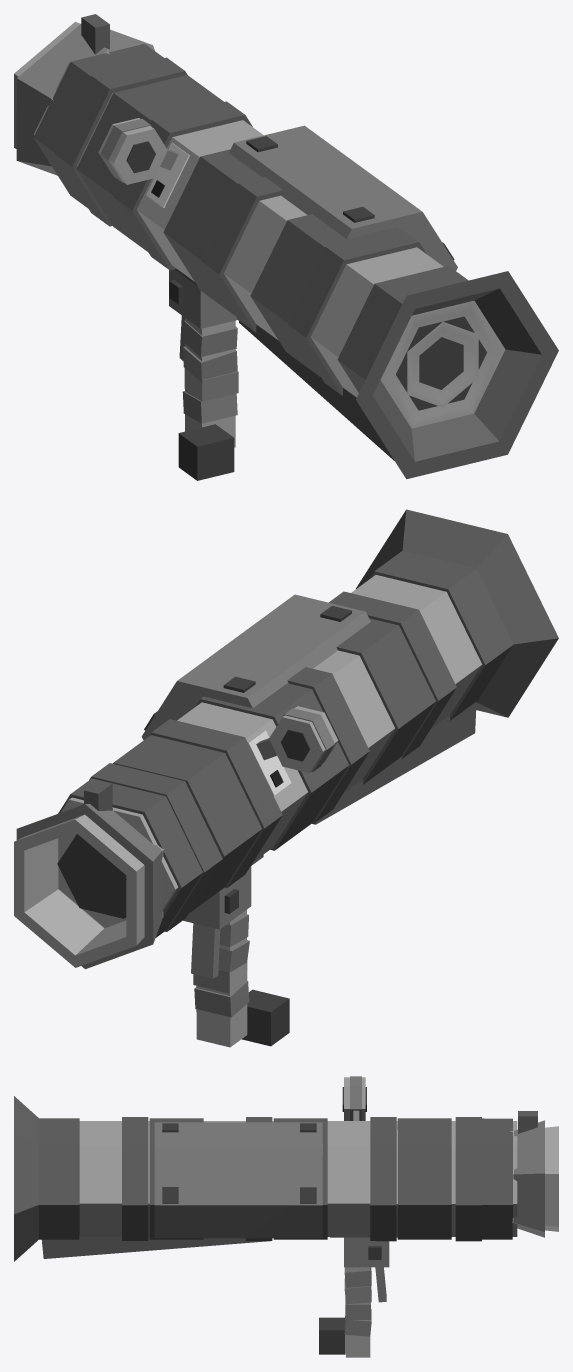
The model's file is Gnome_Rocket_Launcher.fbx.
3 renders of one model, top to bottom at view 1: azimuth 30°, elevation 25°; view 2: azimuth 150°, elevation 25°; view 3: azimuth 270°, elevation 25°, orthographic. The views are drawn at different scales.
Visible parts, largest first — view 1: Gnome Rocket Launcher; view 2: Gnome Rocket Launcher; view 3: Gnome Rocket Launcher.
Part boxes in pixels (x1,y1,x2,y2): Gnome Rocket Launcher: [14, 14, 558, 480]; Gnome Rocket Launcher: [14, 509, 558, 1047]; Gnome Rocket Launcher: [14, 1076, 558, 1357].
Size of the model in its own units: 1.45 by 2.23 by 4.46.
